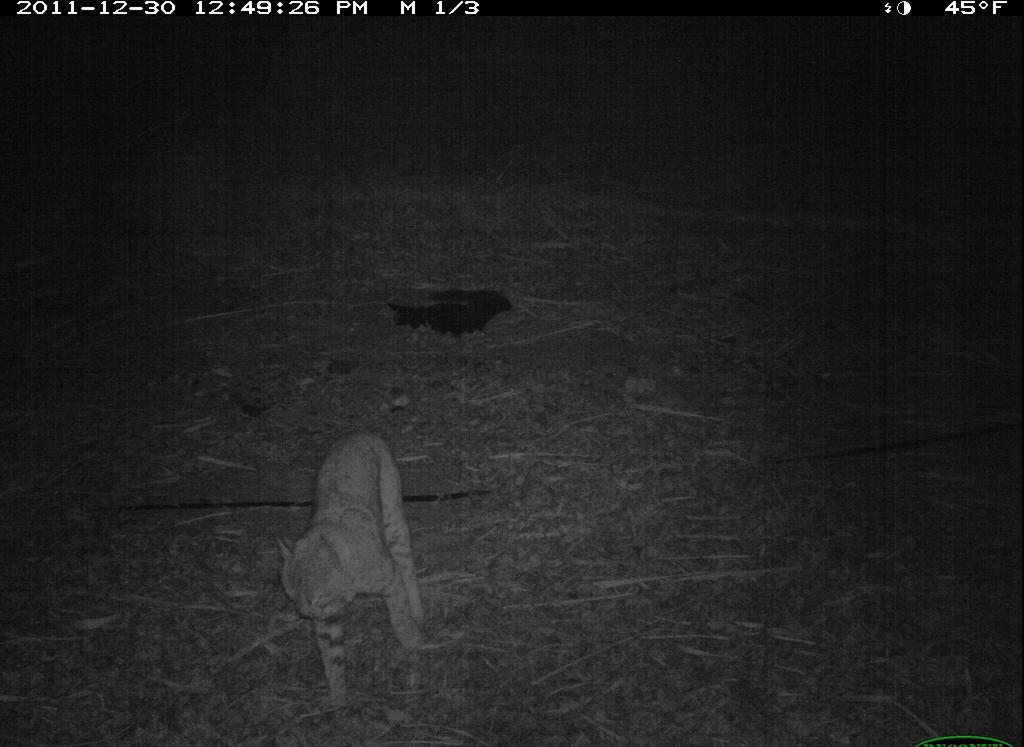bobcat: (272, 424, 438, 715)
